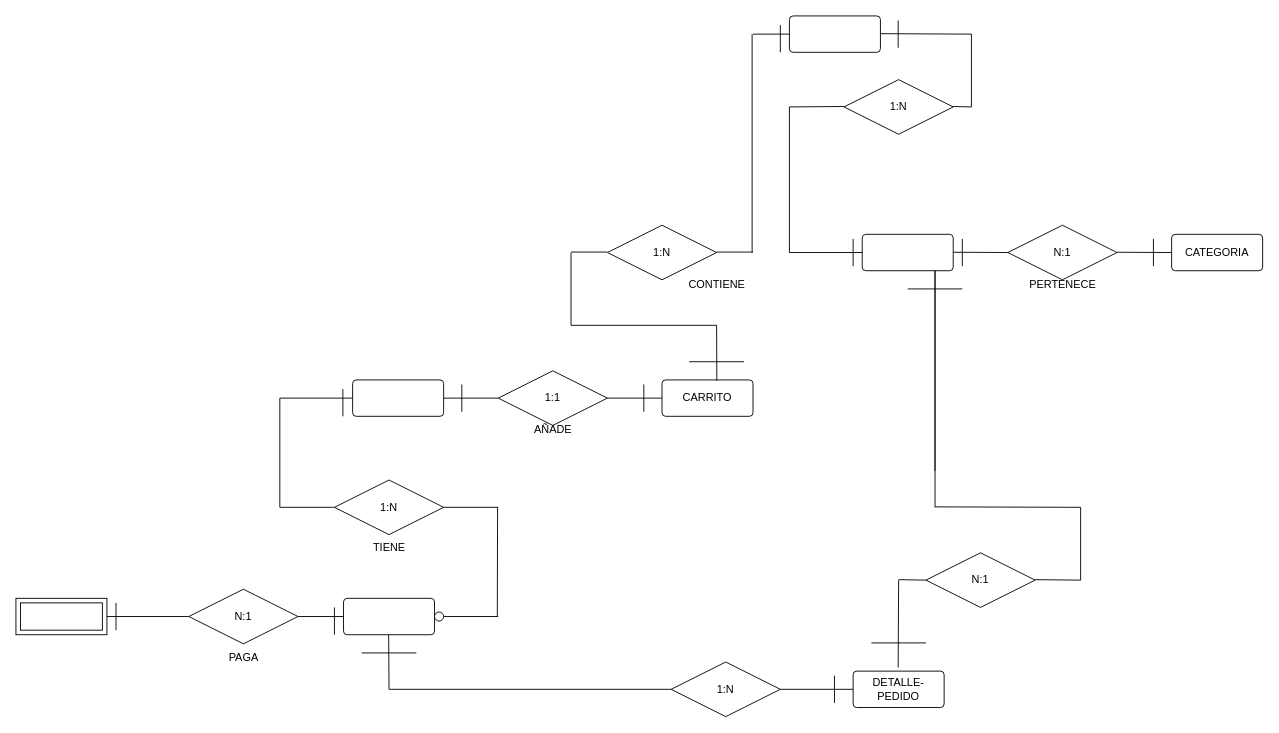
This 1279x733 diagram has some shape labels left out. The centre of each missing label's shape, as x and y in pixels:
"DETALLE-CARRITO" belongs at pixel 834 33.
"PAGO" belongs at pixel 61 616.
"PEDIDO" belongs at pixel 389 616.
"PRODUCTO" belongs at pixel 907 252.
"USUARIO" belongs at pixel 398 397.
